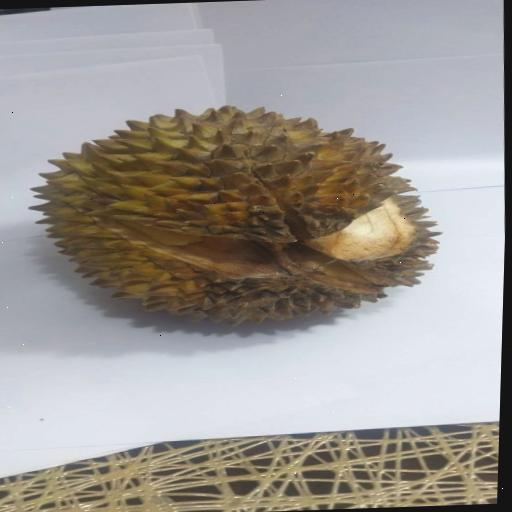rot: (207, 273, 385, 315), (204, 212, 295, 242), (348, 255, 431, 286), (293, 205, 363, 236)
